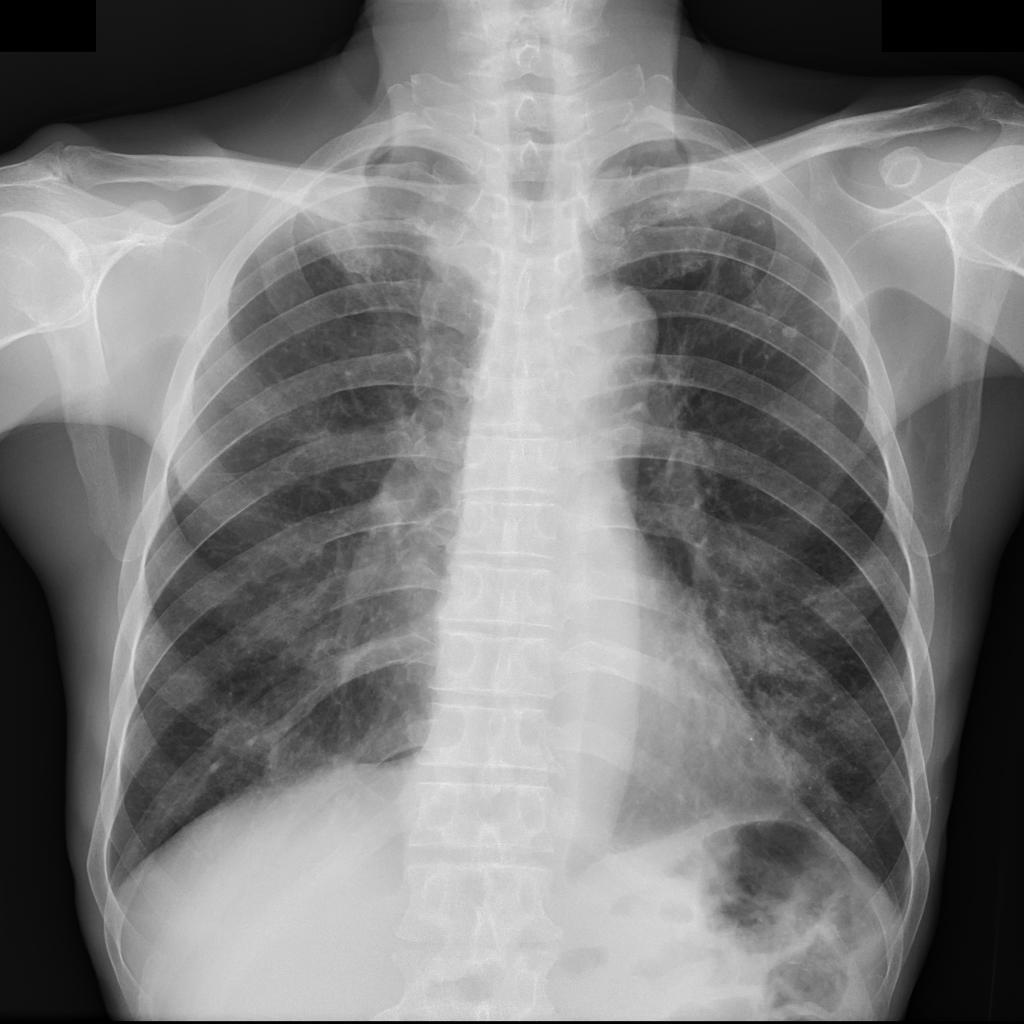Nodule: (779, 327, 796, 342)
